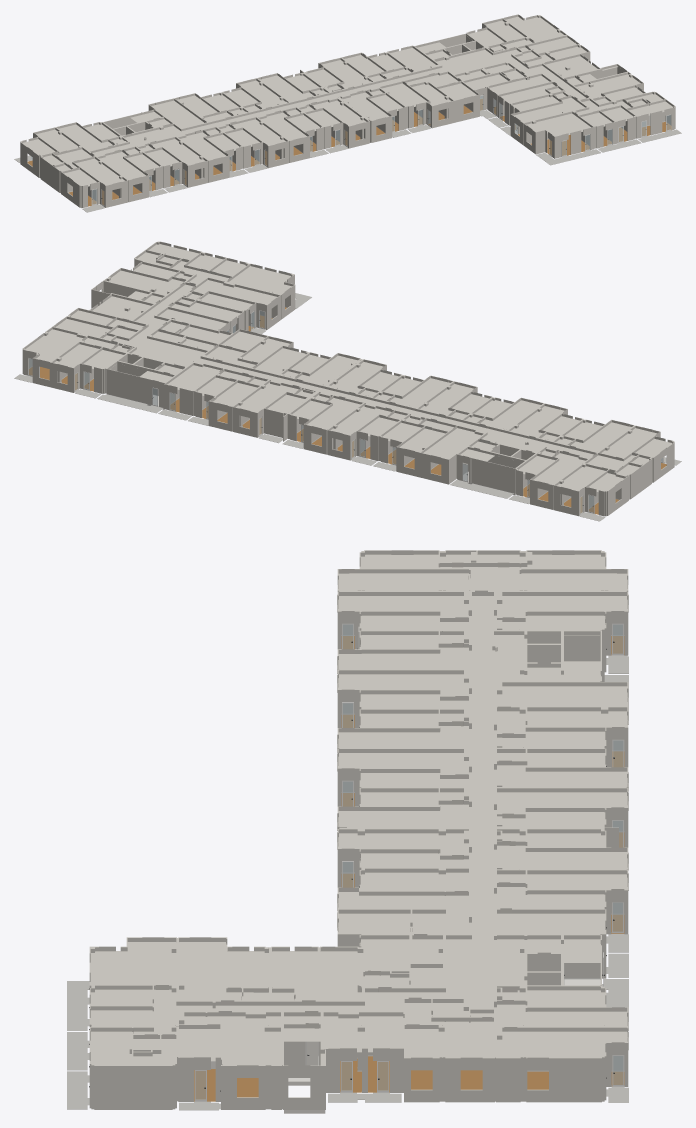
The picture shows the model from 3 angles, top to bottom: view 1: azimuth 30°, elevation 25°; view 2: azimuth 150°, elevation 25°; view 3: azimuth 270°, elevation 25°; orthographic projection. The views are drawn at different scales.
Parts seen in each view (by area): view 1: in_L05_walls__int_wall, in_L05_ceiling__int_wall, in_L05_u72_walls__int_wall, in_L05_u83_walls__int_wall, in_L05_u72_ceiling__int_wall, in_L05_u83_ceiling__int_wall, in_L05_u75_walls__int_wall, in_L05_u75_ceiling__int_wall, in_L05_u69_ceiling__int_wall, in_L05_u64_ceiling__int_wall, in_L05_u70_ceiling__int_wall, in_L05_u68_ceiling__int_wall (+33 smaller); view 2: in_L05_walls__int_wall, in_L05_ceiling__int_wall, in_L05_u83_walls__int_wall, in_L05_u72_ceiling__int_wall, in_L05_u83_ceiling__int_wall, in_L05_u69_walls__int_wall, in_L05_u75_ceiling__int_wall, in_L05_u69_ceiling__int_wall, in_L05_u64_ceiling__int_wall, in_L05_u64_walls__int_wall, in_L05_u70_ceiling__int_wall, in_L05_u68_walls__int_wall (+27 smaller); view 3: in_L05_walls__int_wall, in_L05_ceiling__int_wall, in_L05_u72_ceiling__int_wall, in_L05_u83_ceiling__int_wall, in_L05_u75_ceiling__int_wall, in_L05_u69_walls__int_wall, in_L05_u69_ceiling__int_wall, in_L05_u70_ceiling__int_wall, in_L05_u72_walls__int_wall, in_L05_u64_ceiling__int_wall, in_L05_u70_walls__int_wall, in_L05_u68_ceiling__int_wall (+37 smaller).
Part boxes in pixels (x1=…): in_L05_walls__int_wall: x1=55, y1=33, x2=675, y2=207; in_L05_ceiling__int_wall: x1=92, y1=36, x2=617, y2=155; in_L05_u72_walls__int_wall: x1=523, y1=91, x2=675, y2=158; in_L05_u83_walls__int_wall: x1=20, y1=127, x2=127, y2=207; in_L05_u72_ceiling__int_wall: x1=526, y1=94, x2=672, y2=135; in_L05_u83_ceiling__int_wall: x1=23, y1=129, x2=124, y2=186; in_L05_u75_walls__int_wall: x1=378, y1=69, x2=488, y2=128; in_L05_u75_ceiling__int_wall: x1=382, y1=70, x2=485, y2=106; in_L05_u69_ceiling__int_wall: x1=469, y1=16, x2=563, y2=50; in_L05_u64_ceiling__int_wall: x1=151, y1=95, x2=244, y2=127; in_L05_u70_ceiling__int_wall: x1=517, y1=37, x2=597, y2=77; in_L05_u68_ceiling__int_wall: x1=344, y1=48, x2=435, y2=81; in_L05_walls__int_wall: x1=22, y1=259, x2=635, y2=515; in_L05_ceiling__int_wall: x1=113, y1=284, x2=593, y2=461; in_L05_u83_walls__int_wall: x1=554, y1=425, x2=674, y2=516; in_L05_u72_ceiling__int_wall: x1=137, y1=244, x2=291, y2=294; in_L05_u83_ceiling__int_wall: x1=557, y1=428, x2=671, y2=491; in_L05_u69_walls__int_wall: x1=22, y1=327, x2=133, y2=393; in_L05_u75_ceiling__int_wall: x1=182, y1=331, x2=305, y2=374; in_L05_u69_ceiling__int_wall: x1=25, y1=329, x2=128, y2=368; in_L05_u64_ceiling__int_wall: x1=383, y1=416, x2=481, y2=459; in_L05_u64_walls__int_wall: x1=380, y1=414, x2=484, y2=484; in_L05_u70_ceiling__int_wall: x1=56, y1=296, x2=150, y2=339; in_L05_u68_walls__int_wall: x1=164, y1=362, x2=262, y2=431; in_L05_walls__int_wall: x1=91, y1=551, x2=628, y2=1109; in_L05_ceiling__int_wall: x1=215, y1=596, x2=600, y2=1065; in_L05_u72_ceiling__int_wall: x1=90, y1=942, x2=212, y2=1065; in_L05_u83_ceiling__int_wall: x1=338, y1=554, x2=627, y2=590; in_L05_u75_ceiling__int_wall: x1=338, y1=872, x2=468, y2=962; in_L05_u69_walls__int_wall: x1=497, y1=986, x2=628, y2=1102; in_L05_u69_ceiling__int_wall: x1=497, y1=990, x2=627, y2=1057; in_L05_u70_ceiling__int_wall: x1=323, y1=1003, x2=493, y2=1057; in_L05_u72_walls__int_wall: x1=89, y1=937, x2=180, y2=1109; in_L05_u64_ceiling__int_wall: x1=497, y1=686, x2=627, y2=747; in_L05_u70_walls__int_wall: x1=328, y1=999, x2=497, y2=1102; in_L05_u68_ceiling__int_wall: x1=497, y1=874, x2=627, y2=933.
Bounding box in the file's own units: 82.77 × 3.6 × 38.1.
